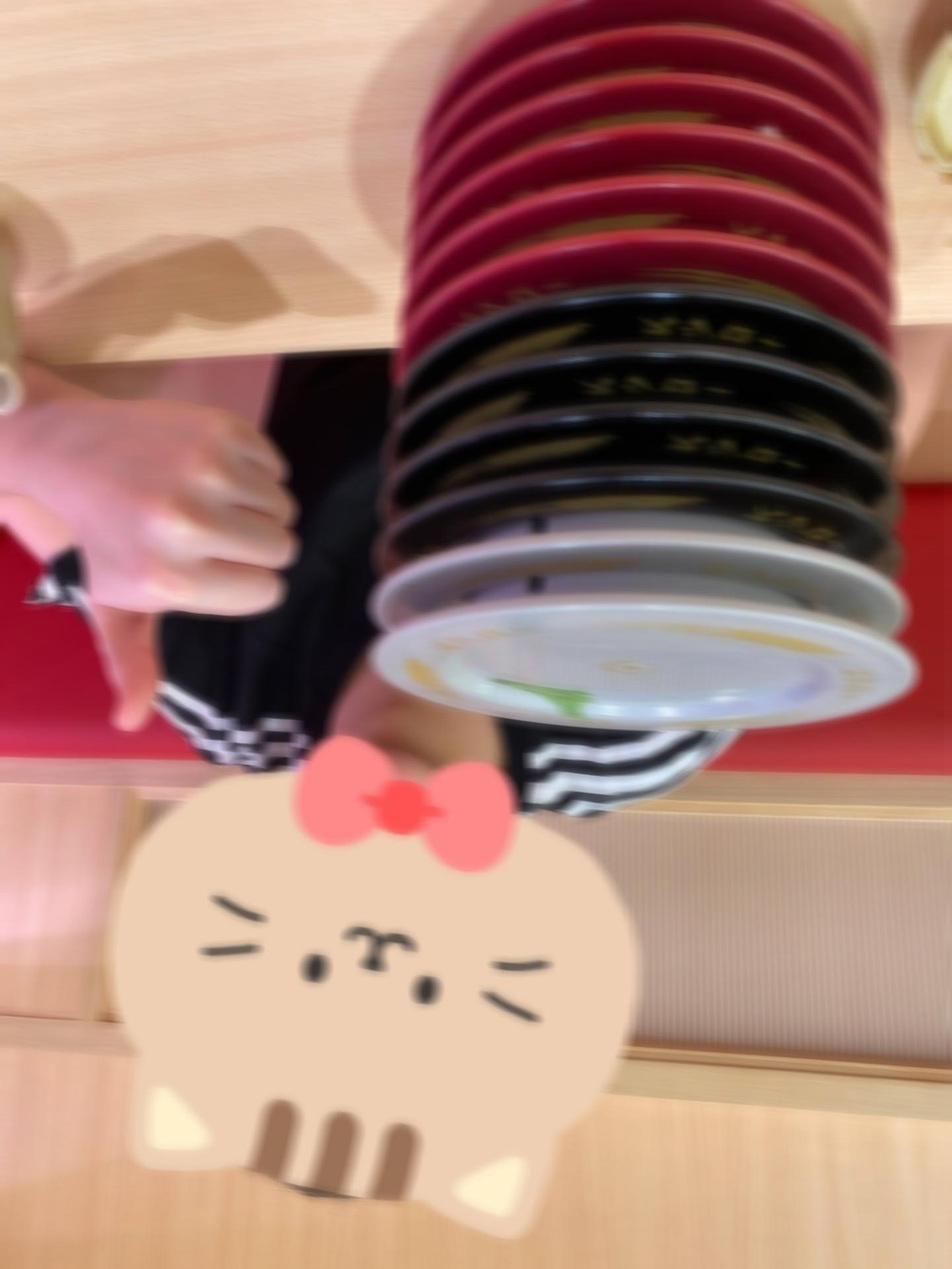Janback: (435, 407, 918, 475), (459, 348, 901, 409), (422, 474, 927, 519), (496, 301, 843, 345)
Janred: (473, 174, 892, 233), (447, 241, 889, 283), (501, 122, 874, 171), (513, 69, 884, 115), (522, 30, 873, 63), (515, 0, 867, 32)
Janwhite: (372, 604, 923, 733), (396, 544, 886, 604)
